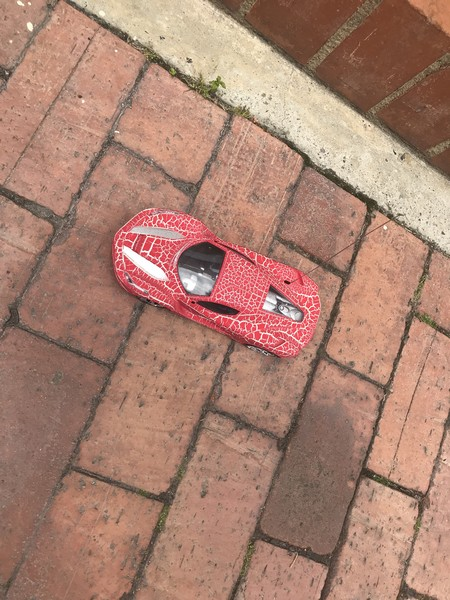RC: (107, 206, 326, 362)
